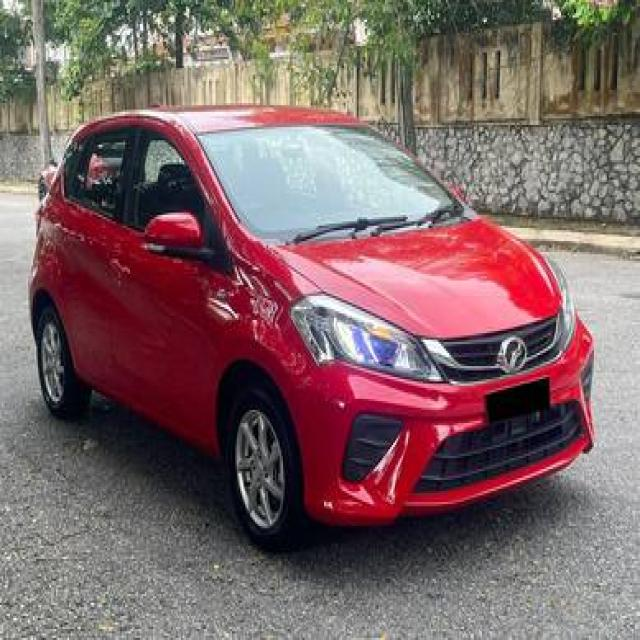PeroduaMyvi: (26, 101, 596, 552)
